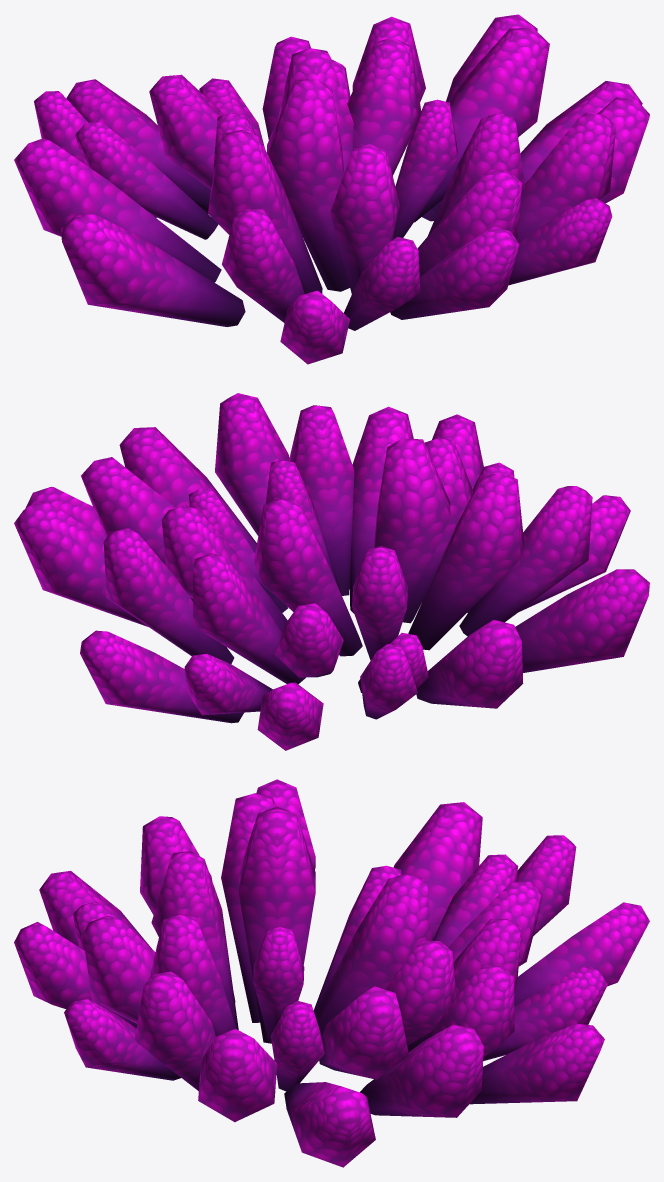
Rendered from Coral_10d.FBX.
3 views of the same model, one above another, from view 1: azimuth 30°, elevation 25°; view 2: azimuth 150°, elevation 25°; view 3: azimuth 270°, elevation 25° (orthographic). The views are drawn at different scales.
Parts seen in each view (by area): view 1: Coral_10d; view 2: Coral_10d; view 3: Coral_10d.
Boxes of the visible parts, x1,y1,x2,y2 form: Coral_10d: (14,14,649,364); Coral_10d: (14,393,649,750); Coral_10d: (14,779,649,1167).
Bounding box in the file's own units: 73.7 × 28.42 × 65.62.
